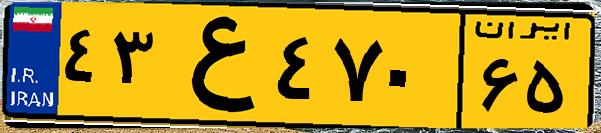0: (385, 28, 445, 110)
3: (110, 28, 158, 98)
4: (270, 28, 330, 110), (57, 26, 110, 100)
5: (525, 38, 570, 115)
6: (475, 38, 525, 113)
7: (330, 28, 385, 110)
ع: (158, 12, 270, 120)
